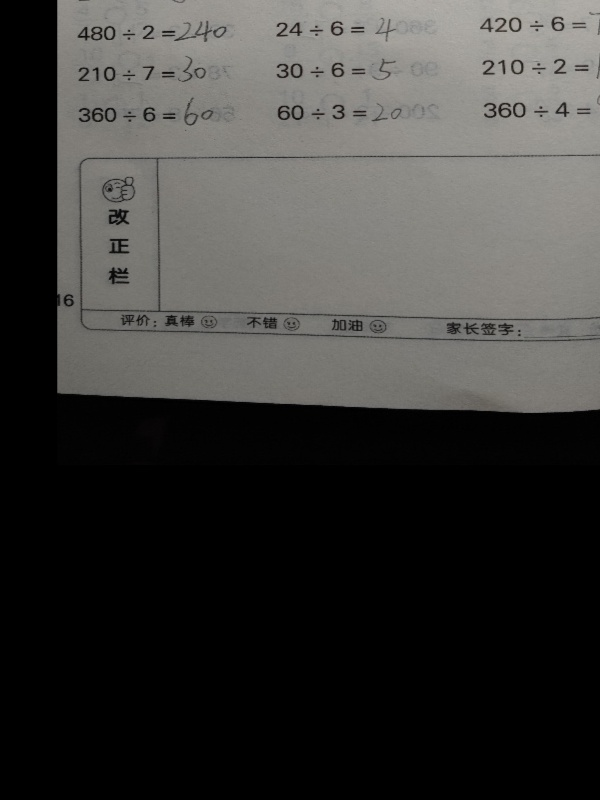equation: (75, 97, 216, 139), (481, 89, 600, 130), (75, 52, 210, 87), (74, 18, 231, 46), (477, 5, 600, 39), (479, 50, 600, 83), (270, 54, 401, 83), (274, 100, 406, 126), (272, 17, 399, 41), (75, 0, 195, 6)
